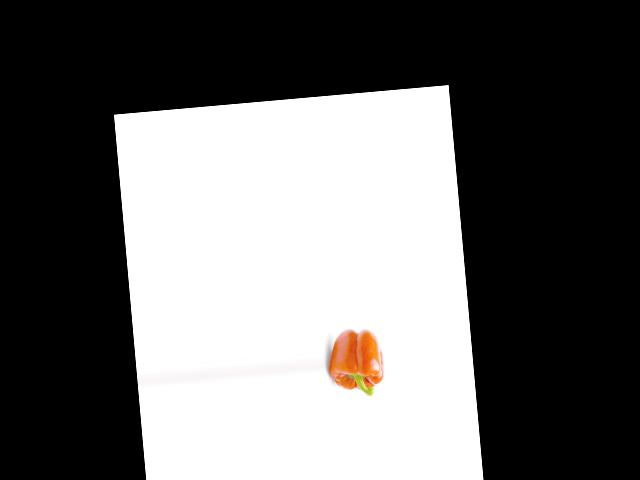bell_pepper: (326, 320, 386, 403)
